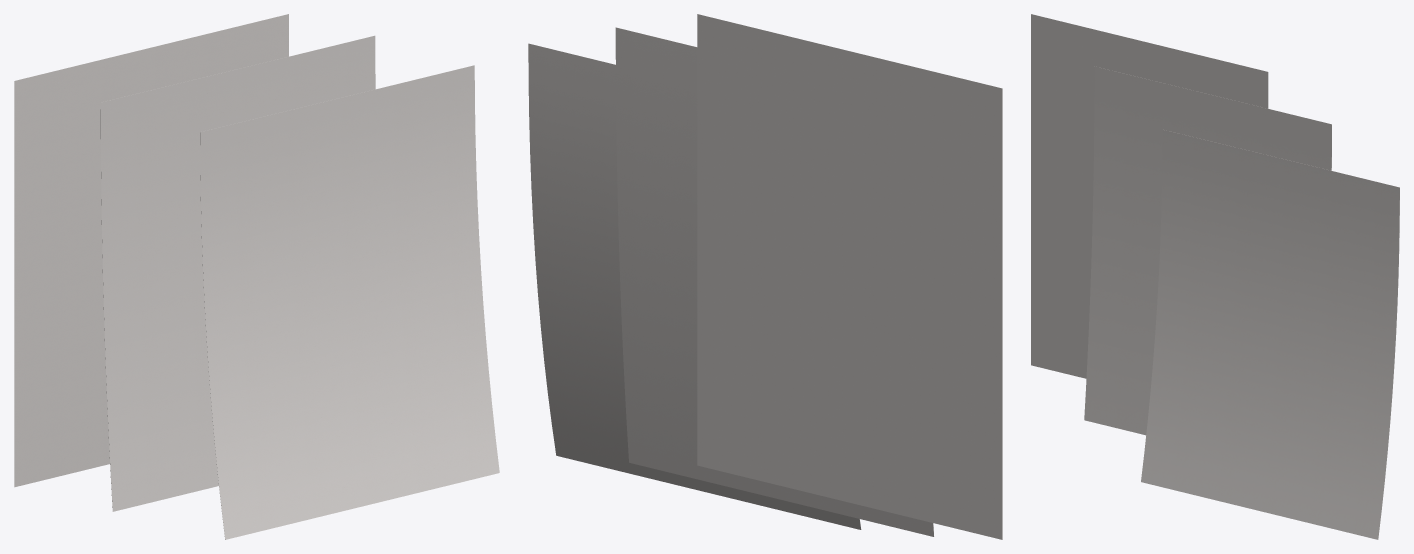
Rendered from Paper.obj.
3 renders of one model, left to right at view 1: azimuth 30°, elevation 25°; view 2: azimuth 150°, elevation 25°; view 3: azimuth 330°, elevation 25°, orthographic. The views are drawn at different scales.
Visible parts, largest first — view 1: Paper3, Paper2, Paper; view 2: Paper, Paper2, Paper3; view 3: Paper3, Paper2, Paper.
Part boxes in pixels (left/top/right/bottom): Paper3: left=200, top=65, right=499, bottom=539; Paper2: left=100, top=35, right=375, bottom=511; Paper: left=14, top=14, right=288, bottom=487; Paper: left=697, top=14, right=1002, bottom=539; Paper2: left=615, top=27, right=934, bottom=536; Paper3: left=528, top=43, right=861, bottom=529; Paper3: left=1141, top=129, right=1399, bottom=539; Paper2: left=1084, top=66, right=1331, bottom=435; Paper: left=1031, top=14, right=1268, bottom=378.
Size of the model in its own units: 13.36 by 13.51 by 2.19.
